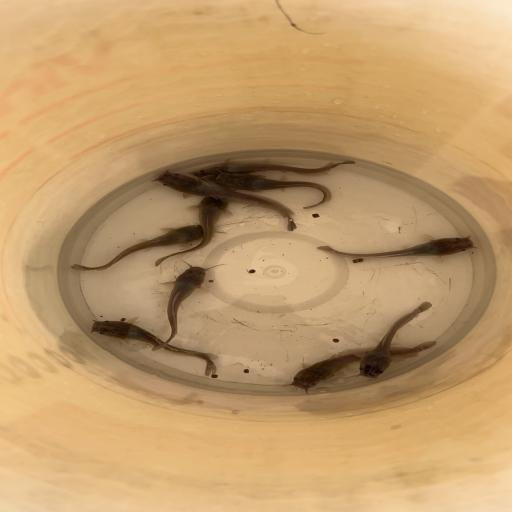lele: (154, 171, 298, 231), (284, 340, 437, 391), (88, 319, 218, 376), (68, 224, 217, 272), (356, 301, 433, 379), (150, 266, 215, 351), (154, 198, 234, 267), (213, 171, 333, 210), (315, 234, 479, 259), (192, 160, 358, 174)
